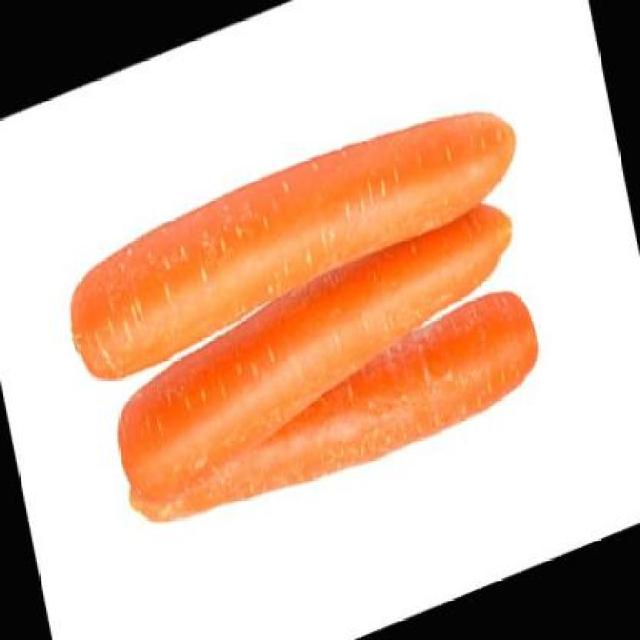carrot: (58, 82, 530, 395), (99, 191, 538, 515), (117, 278, 545, 552)
